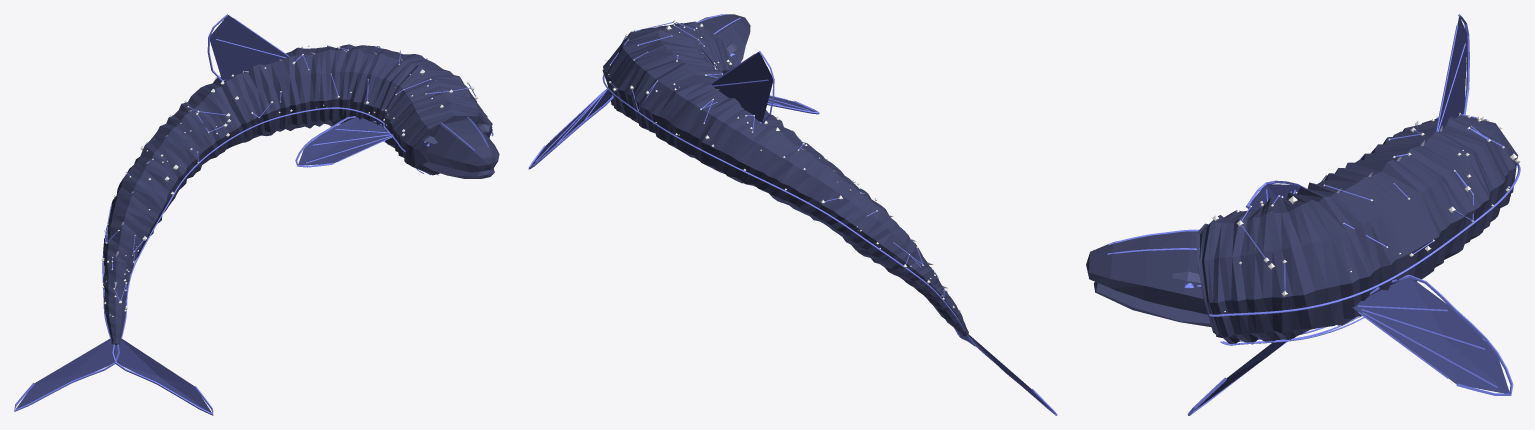
Rendered from Leviatan.obj.
3 renders of one model, left to right at view 1: azimuth 30°, elevation 25°; view 2: azimuth 150°, elevation 25°; view 3: azimuth 270°, elevation 25°, orthographic. The views are drawn at different scales.
Parts seen in each view (by area): view 1: Leviatan_Cuerpo, Leviatan_Membrana, Leviatan_Brillo, Leviatan_Estrellas; view 2: Leviatan_Cuerpo, Leviatan_Membrana, Leviatan_Brillo, Leviatan_Estrellas; view 3: Leviatan_Cuerpo, Leviatan_Membrana, Leviatan_Brillo, Leviatan_Estrellas.
Part boxes in pixels (left/top/right/bottom): Leviatan_Cuerpo: left=103, top=44, right=499, bottom=344; Leviatan_Membrana: left=16, top=15, right=393, bottom=412; Leviatan_Brillo: left=14, top=14, right=493, bottom=415; Leviatan_Estrellas: left=101, top=44, right=478, bottom=316; Leviatan_Cuerpo: left=602, top=14, right=968, bottom=335; Leviatan_Membrana: left=531, top=52, right=1051, bottom=410; Leviatan_Brillo: left=528, top=14, right=1057, bottom=415; Leviatan_Estrellas: left=605, top=20, right=960, bottom=311; Leviatan_Cuerpo: left=1086, top=115, right=1518, bottom=344; Leviatan_Membrana: left=1195, top=17, right=1509, bottom=409; Leviatan_Brillo: left=1107, top=14, right=1520, bottom=415; Leviatan_Estrellas: left=1212, top=113, right=1520, bottom=312.
Bounding box in the file's own units: 5.53 × 3.63 × 2.99.
